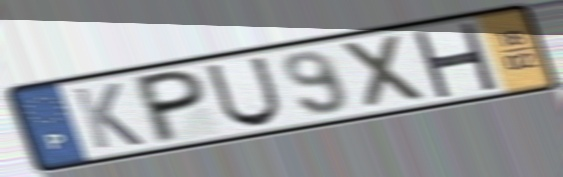9: (280, 48, 353, 117)
H: (408, 21, 501, 99)
K: (69, 80, 148, 152)
P: (134, 66, 207, 148)
U: (202, 54, 286, 130)
X: (337, 30, 432, 112)
